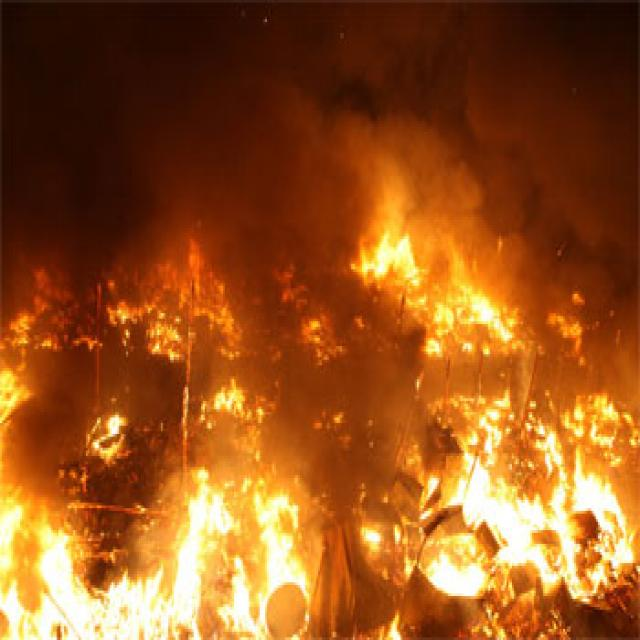fire: (9, 184, 640, 640)
